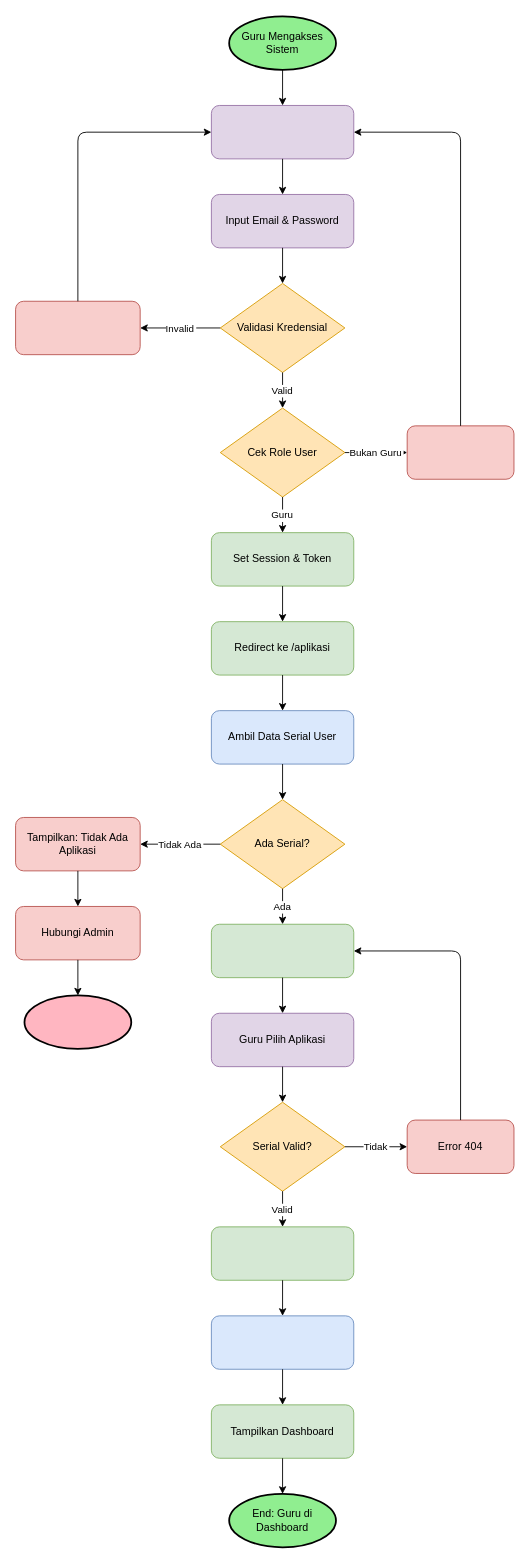
Some shapes in this 530 by 1563 pixel diagram are drawn without their labels. The centre of each missing label's shape, as x and y in pixels:
"Akses Ditolak" belongs at point 460,452.
"Ambil Statistik" belongs at point 282,1342.
"End" belongs at point 77,1021.
"Load Dashboard Aplikasi" belongs at point 282,1253.
"Tampilkan Daftar Aplikasi" belongs at point 282,950.
"Tampilkan Halaman Login" belongs at point 282,132.
"Tampilkan Pesan Error" belongs at point 77,327.
